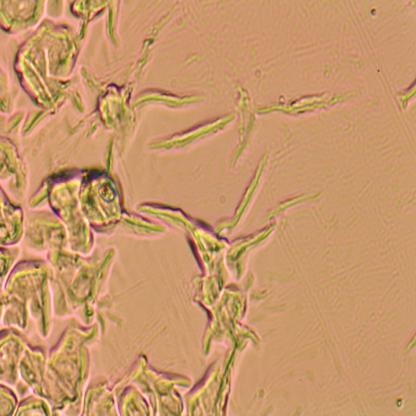Stage III: (0, 14, 91, 416)
